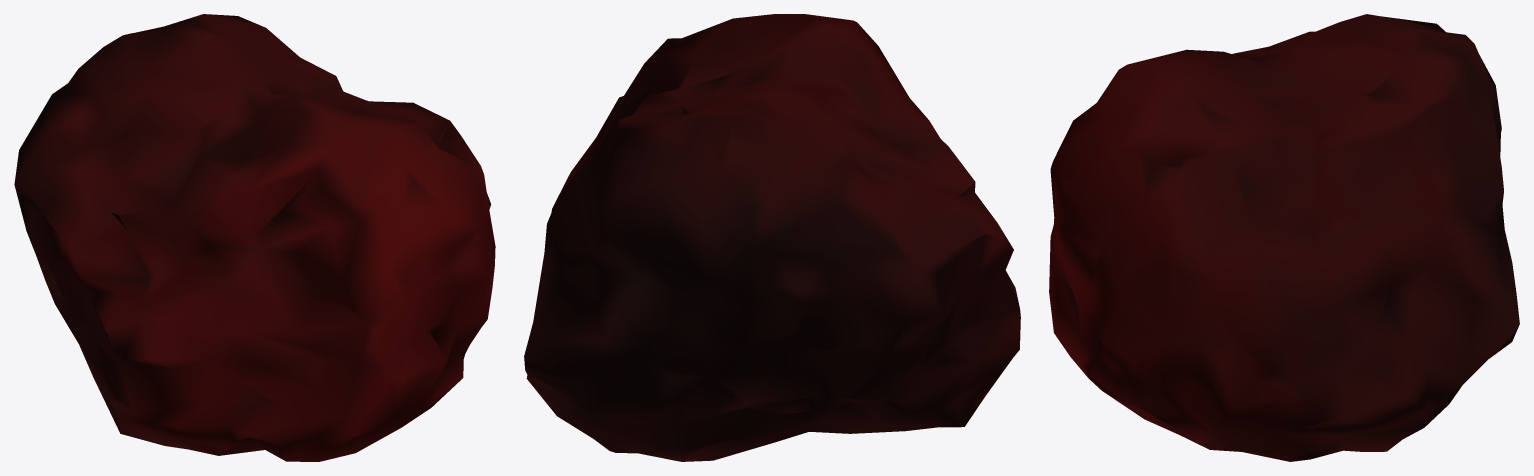
File: geology-rocks-meteoritelarge_v3.fbx
3 views of the same model, side by side, from view 1: azimuth 30°, elevation 25°; view 2: azimuth 150°, elevation 25°; view 3: azimuth 270°, elevation 25° (orthographic). The views are drawn at different scales.
Visible parts, largest first — view 1: MeteoriteLarge_v3; view 2: MeteoriteLarge_v3; view 3: MeteoriteLarge_v3.
Boxes of the visible parts, <box> form: MeteoriteLarge_v3: <box>14,14,495,461</box>; MeteoriteLarge_v3: <box>524,14,1020,461</box>; MeteoriteLarge_v3: <box>1049,14,1519,461</box>.
Size of the model in its own units: 5.86 by 4.83 by 5.63.
